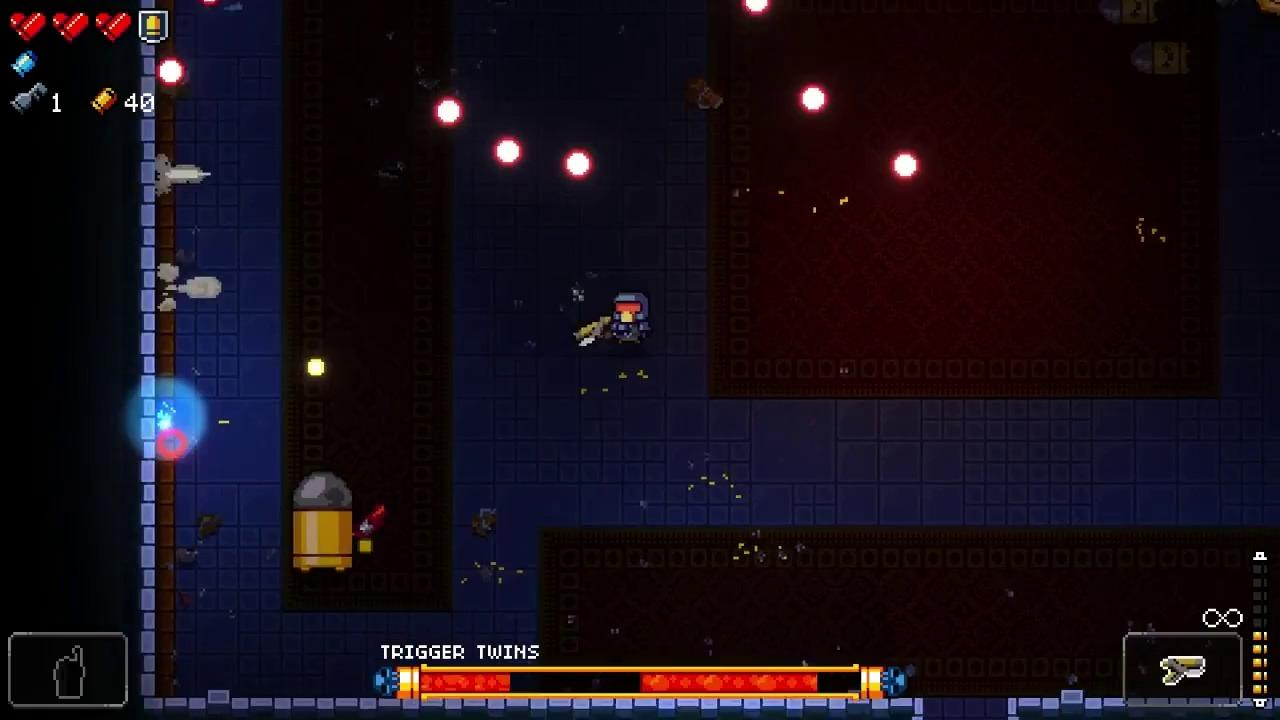boss_shades: (289, 472, 355, 574)
bullet: (491, 136, 525, 170), (563, 148, 595, 182), (432, 96, 466, 128), (890, 151, 920, 181), (800, 86, 827, 113), (741, 0, 771, 16)
dead_bullet_kin: (1131, 43, 1193, 77), (1101, 0, 1158, 24)
player: (612, 291, 651, 344)
